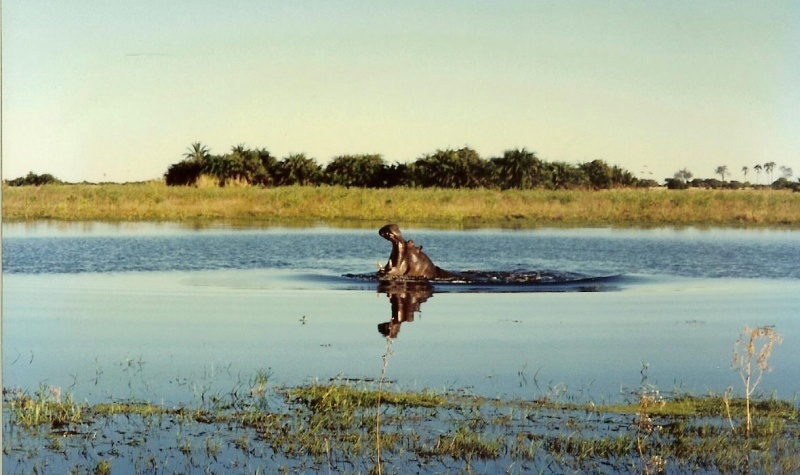hipopotamo: (354, 216, 590, 310)
